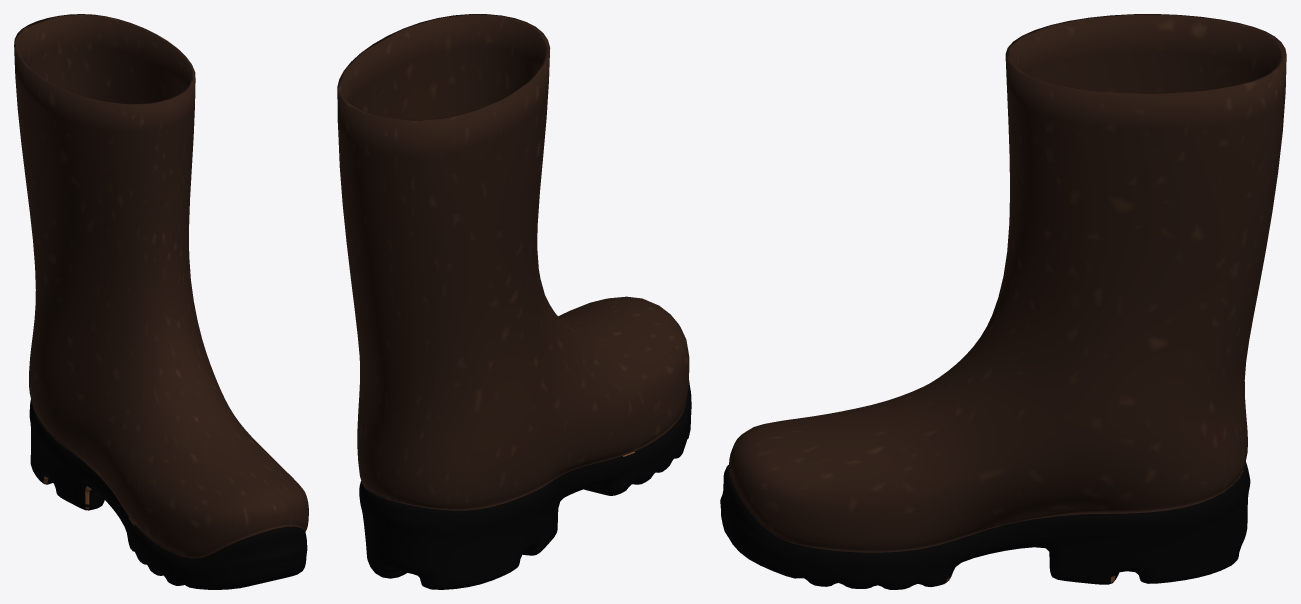
Rendered from right_boot.glb.
3 renders of one model, left to right at view 1: azimuth 30°, elevation 25°; view 2: azimuth 150°, elevation 25°; view 3: azimuth 270°, elevation 25°, orthographic. The views are drawn at different scales.
Visible parts, largest first — view 1: rubber_boots_dirt_r_LOD0.001; view 2: rubber_boots_dirt_r_LOD0.001; view 3: rubber_boots_dirt_r_LOD0.001.
Boxes of the visible parts, x1=… form: rubber_boots_dirt_r_LOD0.001: x1=14, y1=14, x2=308, y2=589; rubber_boots_dirt_r_LOD0.001: x1=337, y1=14, x2=691, y2=589; rubber_boots_dirt_r_LOD0.001: x1=720, y1=14, x2=1286, y2=589.
Bounding box in the file's own units: 0.0913 × 0.2586 × 0.2662.
3 materials, 1 textured.
